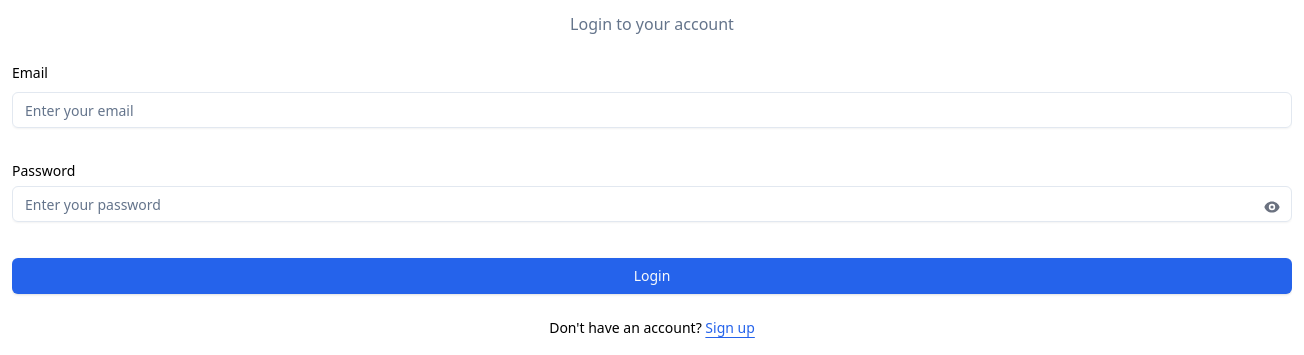
it: Presentation > Features > Auth > LoginForm › should show validation error
In the field labelled "Email": x=652, y=110 top-left (12, 92), bottom-right (1292, 128), type "test@example.com"
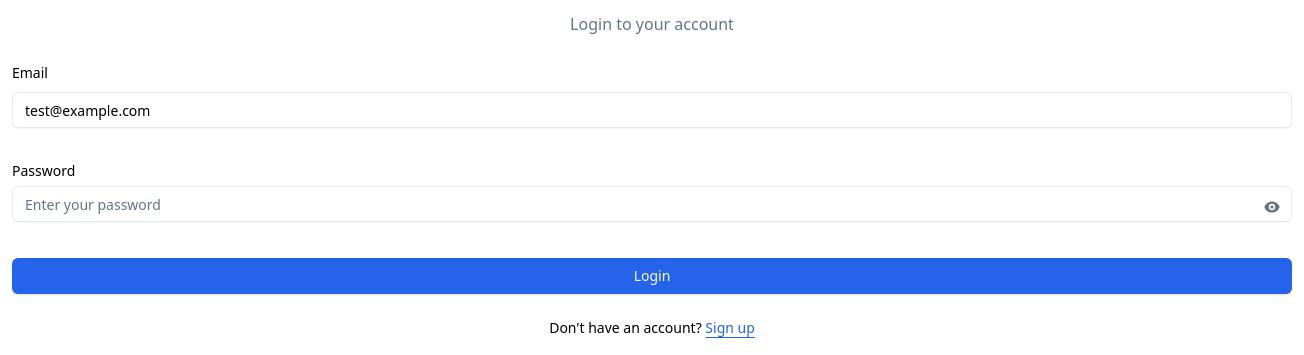
In the password field with test id "password-input": x=652, y=204 top-left (12, 186), bottom-right (1292, 222), type "pass"
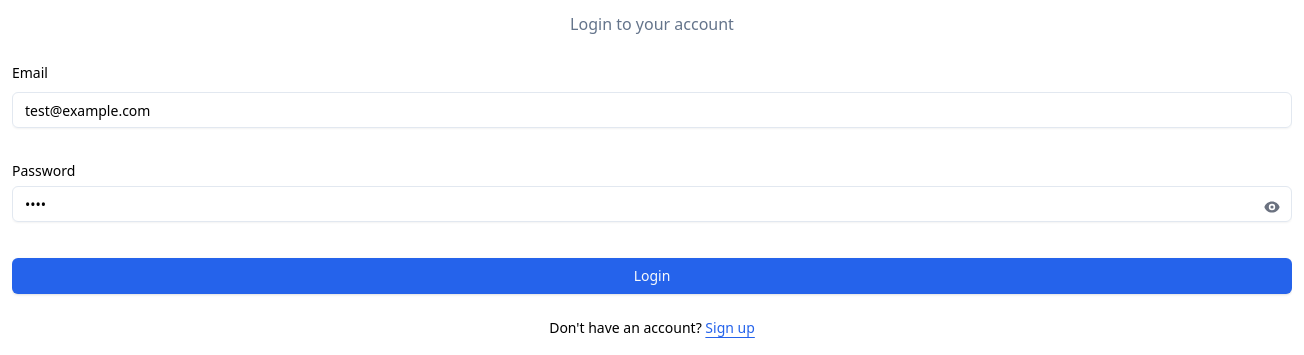
Click the button "Login": x=652, y=276 top-left (12, 258), bottom-right (1292, 294)
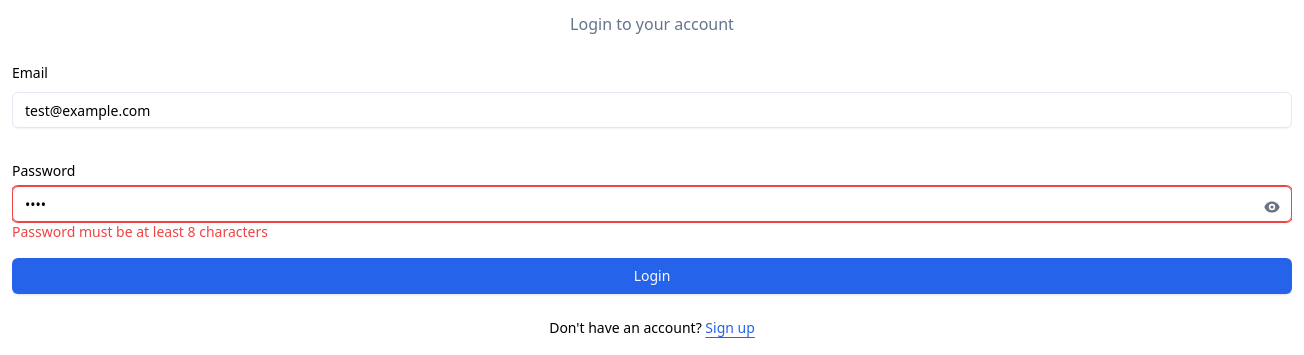
Result: the text "Password must be at least 8 characters" is shown at top-left (12, 222), bottom-right (268, 241)
